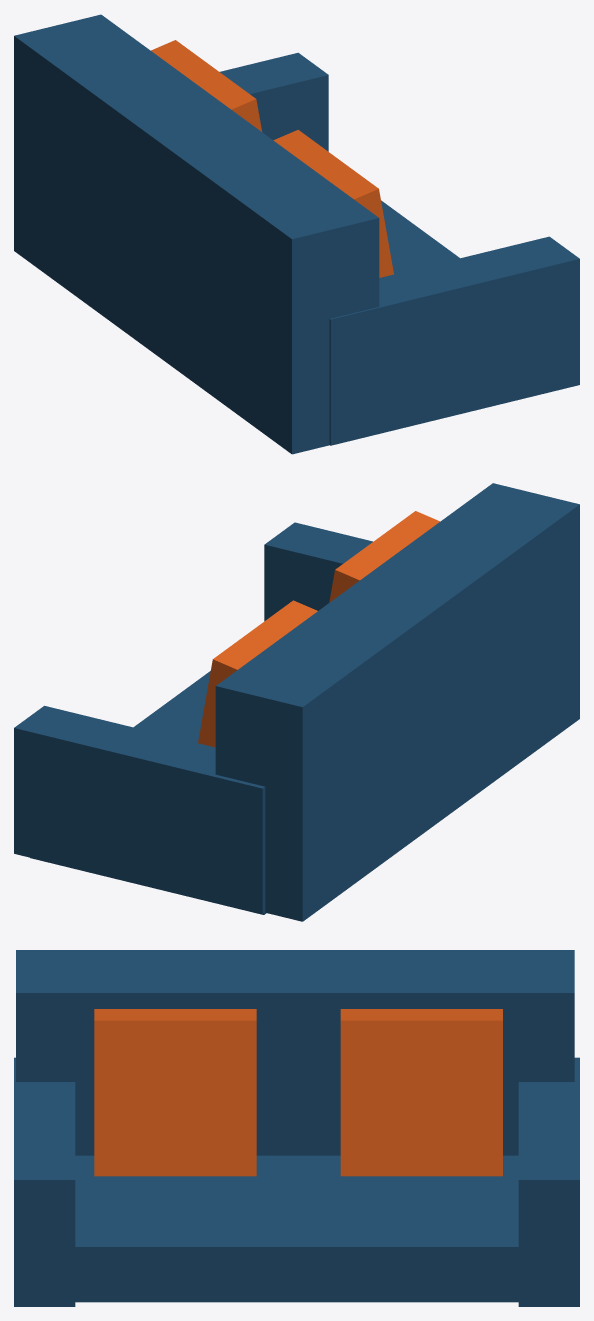
File: sillon.fbx
3 views of the same model, one above another, from view 1: azimuth 30°, elevation 25°; view 2: azimuth 150°, elevation 25°; view 3: azimuth 270°, elevation 25° (orthographic).
Parts seen in each view (by area): view 1: Cube.002, Cube.003, Cube.001, Cube.004, Cube.005, Cube; view 2: Cube.002, Cube.001, Cube.003, Cube.005, Cube.004, Cube; view 3: Cube.002, Cube, Cube.004, Cube.005, Cube.001, Cube.003.
Boxes of the visible parts, x1,y1,x2,y2 form: Cube.002: (14,14,379,454); Cube.003: (329,236,579,445); Cube.001: (220,52,328,151); Cube.004: (273,130,393,277); Cube.005: (151,40,261,131); Cube: (381,200,459,274); Cube.002: (215,483,579,921); Cube.001: (14,705,265,914); Cube.003: (264,522,372,621); Cube.005: (198,600,317,747); Cube.004: (329,511,439,602); Cube: (30,671,266,914); Cube.002: (16,950,574,1155); Cube: (75,1155,518,1302); Cube.004: (94,1009,256,1176); Cube.005: (340,1009,502,1176); Cube.001: (518,1057,579,1306); Cube.003: (14,1057,75,1306).
Size of the model in its own units: 279 by 202 by 474.
